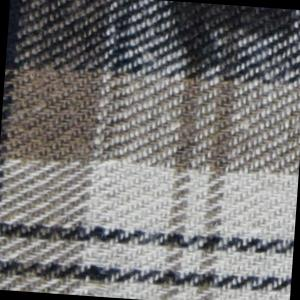Stain: (158, 2, 299, 76)
